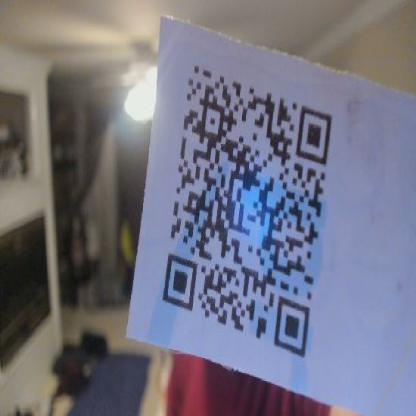qr: (164, 66, 337, 363)
